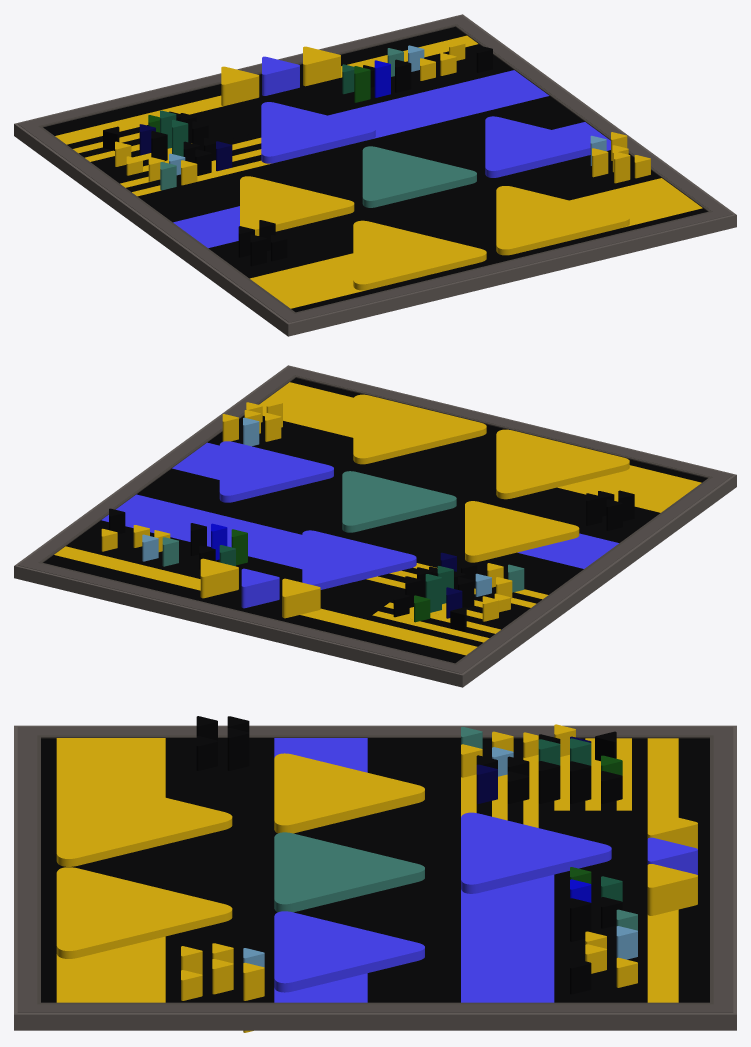
Rendered from Korutawa v21 2022-03-23 op.281.glb.
3 renders of one model, top to bottom at view 1: azimuth 30°, elevation 25°; view 2: azimuth 150°, elevation 25°; view 3: azimuth 270°, elevation 25°, orthographic. The views are drawn at different scales.
Visible parts, largest first — view 1: Frame_2, 1_WA 0 N_UCL, Frame_3, 1_WA 14 N_UCL, 1_WA 26 N_UCL, 1_WA 26 N_RCL, 1_WA 0 N_2-2, 1_WA 0 N_1-1, 1_WA 14 N_2-4, 1_WA 26 N_1-6, 1_WA 14 N_3-5, 1_WA 14 N_1-3 (+17 smaller); view 2: Frame_2, Frame_3, 1_WA 14 N_UCL, 1_WA 0 N_UCL, 1_WA 0 N_1-1, 1_WA 0 N_2-2, 1_WA 26 N_UCL, 1_WA 26 N_RCL, 1_WA 14 N_3-5, 1_WA 14 N_2-4, 1_WA 14 N_1-3, 1_WA 38 N_UCL (+17 smaller); view 3: Frame_2, 1_WA 0 N_UCL, 1_WA 14 N_UCL, Frame_3, 1_WA 26 N_UCL, 1_WA 26 N_RCL, 1_WA 0 N_2-2, 1_WA 0 N_1-1, 1_WA 14 N_3-5, 1_WA 14 N_2-4, 1_WA 14 N_1-3, 1_WA 26 N_1-6 (+40 smaller).
Part boxes in pixels (x1,y1,x2,y2): Frame_2: (18, 15, 732, 322); 1_WA 0 N_UCL: (208, 150, 661, 278); Frame_3: (14, 14, 736, 336); 1_WA 14 N_UCL: (137, 96, 584, 222); 1_WA 26 N_UCL: (190, 44, 513, 141); 1_WA 26 N_RCL: (328, 70, 549, 138); 1_WA 0 N_2-2: (496, 186, 629, 255); 1_WA 0 N_1-1: (353, 220, 486, 290); 1_WA 14 N_2-4: (362, 146, 476, 207); 1_WA 26 N_1-6: (261, 102, 375, 163); 1_WA 14 N_3-5: (485, 116, 590, 177); 1_WA 14 N_1-3: (240, 176, 354, 235); Frame_2: (18, 366, 732, 673); Frame_3: (14, 365, 736, 687); 1_WA 14 N_UCL: (136, 468, 583, 594); 1_WA 0 N_UCL: (207, 415, 660, 542); 1_WA 0 N_1-1: (496, 429, 629, 499); 1_WA 0 N_2-2: (353, 394, 486, 464); 1_WA 26 N_UCL: (66, 520, 396, 619); 1_WA 26 N_RCL: (101, 494, 302, 569); 1_WA 14 N_3-5: (219, 441, 333, 502); 1_WA 14 N_2-4: (342, 471, 456, 532); 1_WA 14 N_1-3: (465, 501, 579, 562); 1_WA 38 N_UCL: (43, 555, 465, 663); Frame_2: (17, 727, 733, 1012); 1_WA 0 N_UCL: (165, 738, 274, 1002); 1_WA 14 N_UCL: (367, 738, 460, 1002); Frame_3: (14, 725, 736, 1030); 1_WA 26 N_UCL: (554, 810, 647, 1002); 1_WA 26 N_RCL: (461, 874, 554, 1002); 1_WA 0 N_2-2: (56, 867, 232, 958); 1_WA 0 N_1-1: (56, 775, 232, 866); 1_WA 14 N_3-5: (274, 911, 424, 992); 1_WA 14 N_2-4: (274, 832, 424, 912); 1_WA 14 N_1-3: (274, 753, 424, 833); 1_WA 26 N_1-6: (461, 812, 611, 893).
Bounding box in the file's own units: 21.96 × 2.8 × 23.24.
